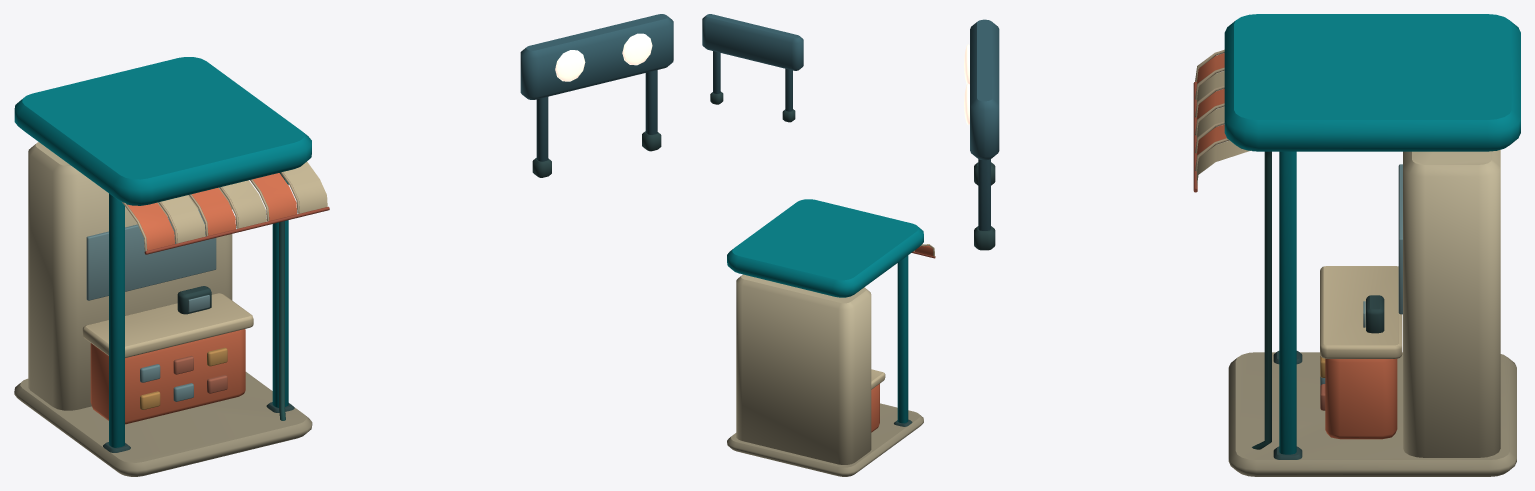
File: ocean_restaurant_4.glb
3 views of the same model, side by side, from view 1: azimuth 30°, elevation 25°; view 2: azimuth 150°, elevation 25°; view 3: azimuth 270°, elevation 25° (orthographic). The views are drawn at different scales.
Parts seen in each view (by area): view 1: Restaurant4; view 2: Restaurant4; view 3: Restaurant4.
Part boxes in pixels (x1,y1,x2,y2): Restaurant4: (14,14,673,476); Restaurant4: (702,14,935,476); Restaurant4: (964,14,1520,476).
Size of the model in its own units: 5.28 by 4.95 by 4.79.
